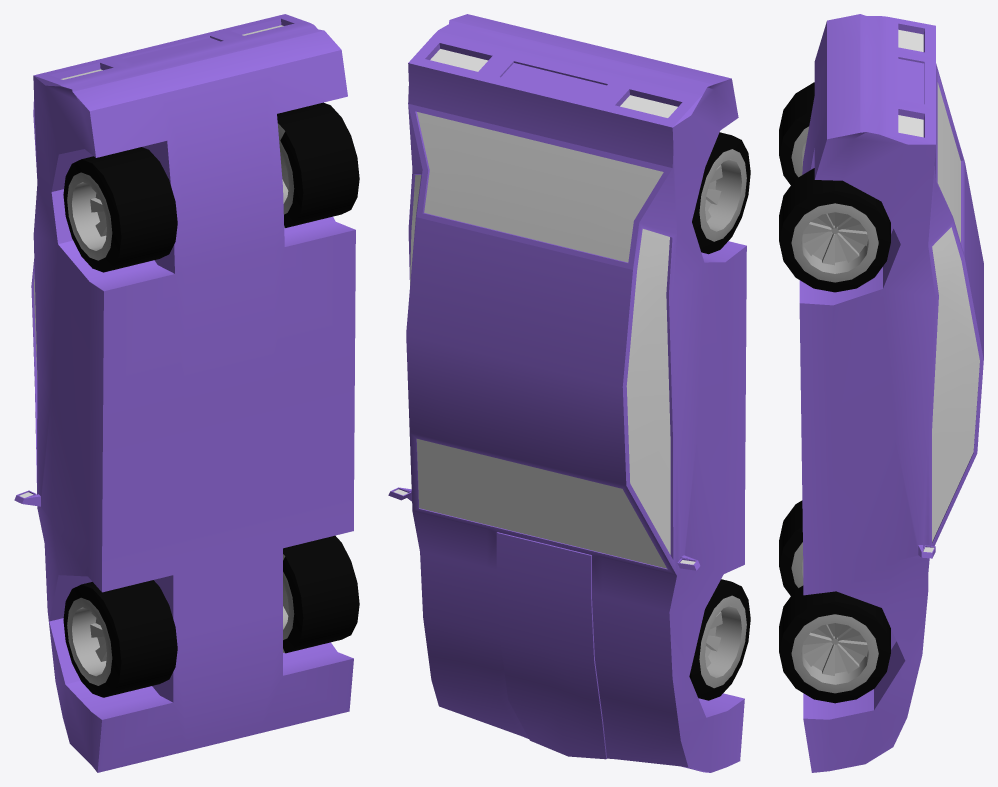
File: CarToy.fbx
3 renders of one model, left to right at view 1: azimuth 30°, elevation 25°; view 2: azimuth 150°, elevation 25°; view 3: azimuth 270°, elevation 25°, orthographic. The views are drawn at different scales.
Visible parts, largest first — view 1: Cube.026; view 2: Cube.026; view 3: Cube.026.
Part boxes in pixels (x1,y1,x2,y2): Cube.026: (14, 14, 359, 772); Cube.026: (388, 14, 750, 772); Cube.026: (779, 14, 983, 772).
Bounding box in the file's own units: 7.82 × 4.88 × 16.86.
